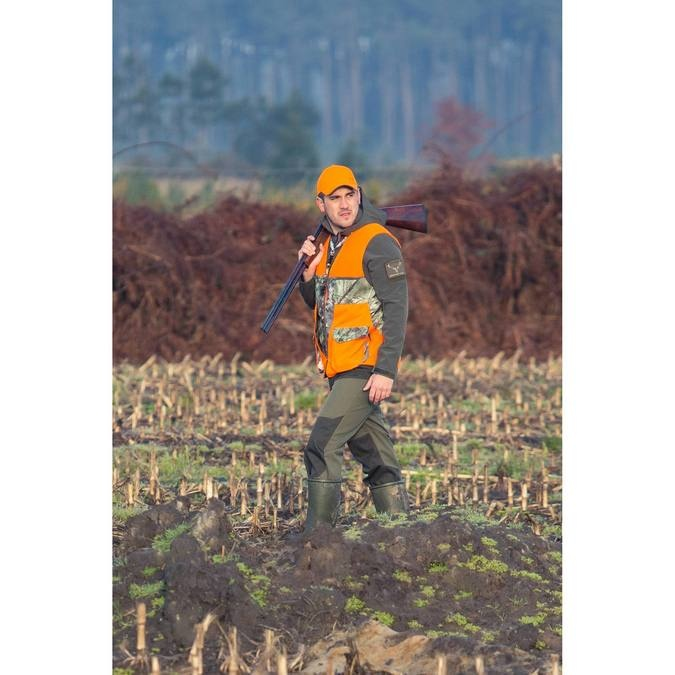person with partial safety: (292, 167, 411, 543)
safety vest: (310, 232, 403, 379)
